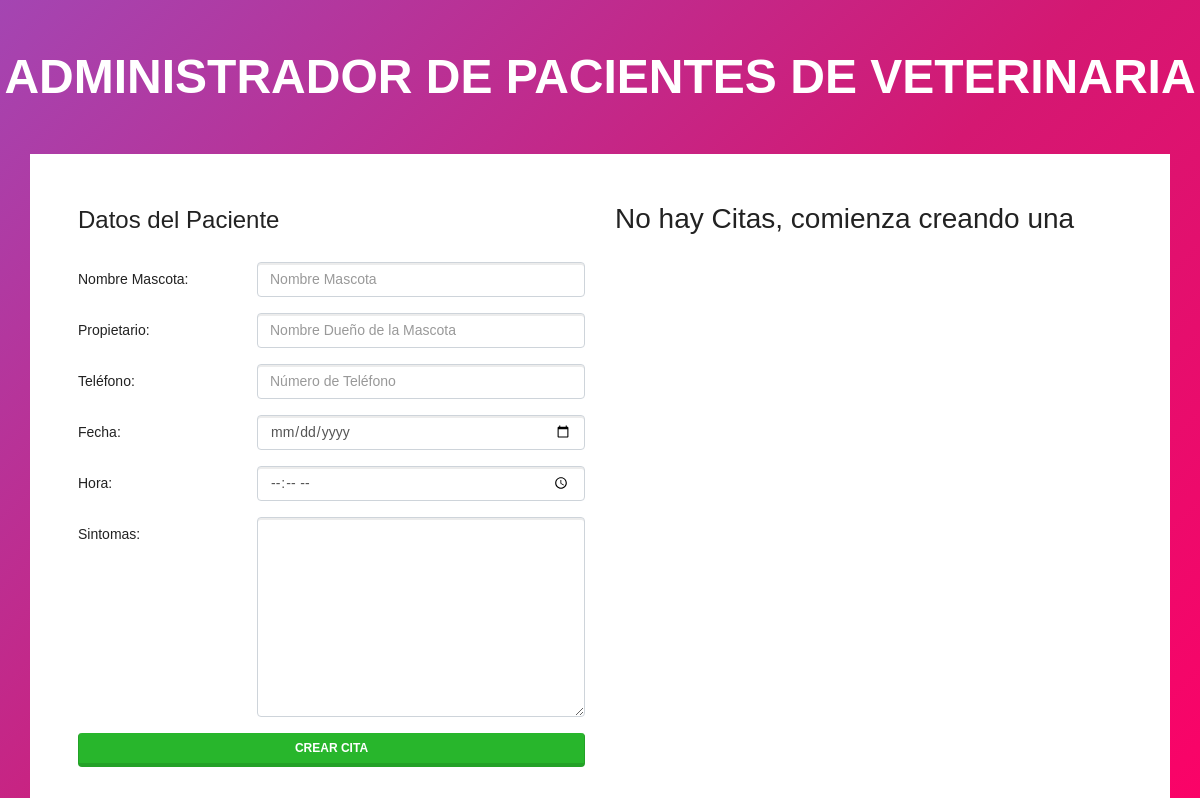
Test: Carga la página prinicpal › Carga la página principal
This screenshot has width=1200, height=798.
In the field with test id "mascota-input": (421, 280) [257, 262, 585, 297], type "Hook"
In the field with test id "propietario-input": (421, 331) [257, 313, 585, 348], type "Cesario"
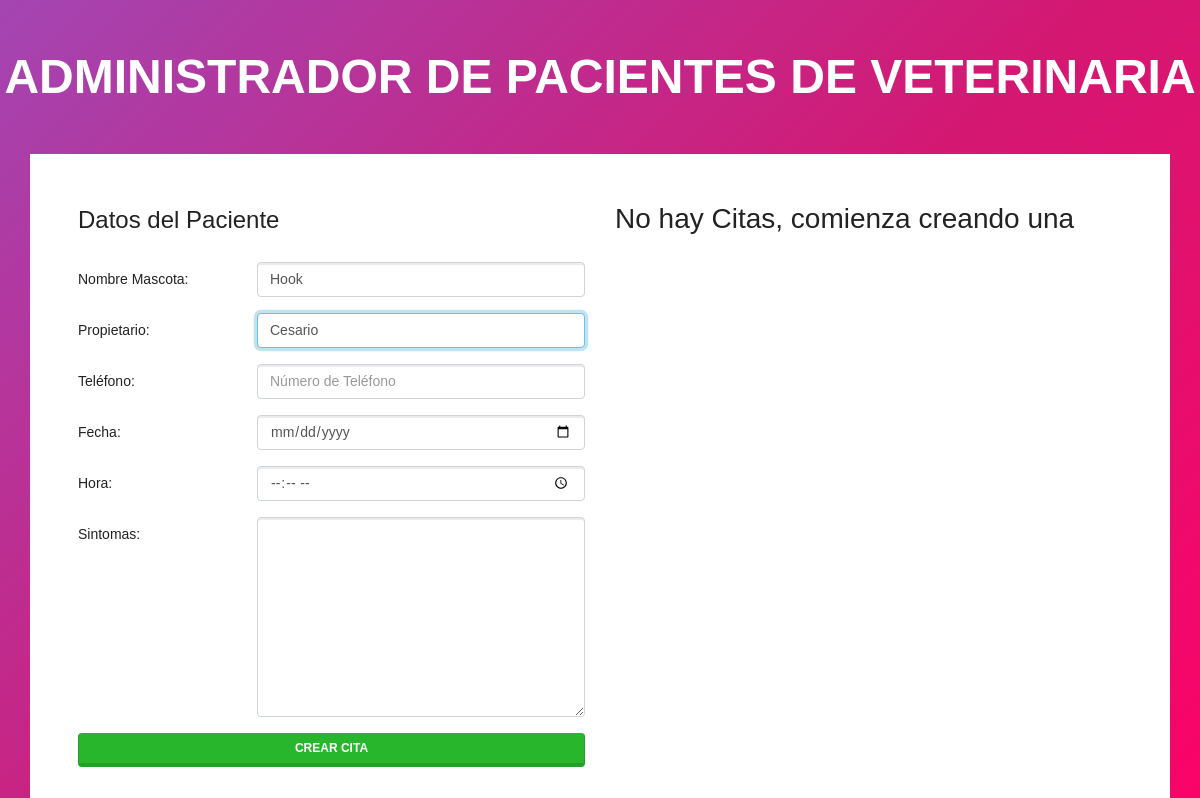
In the field with test id "telefono-input": (421, 382) [257, 364, 585, 399], type "8093465343"
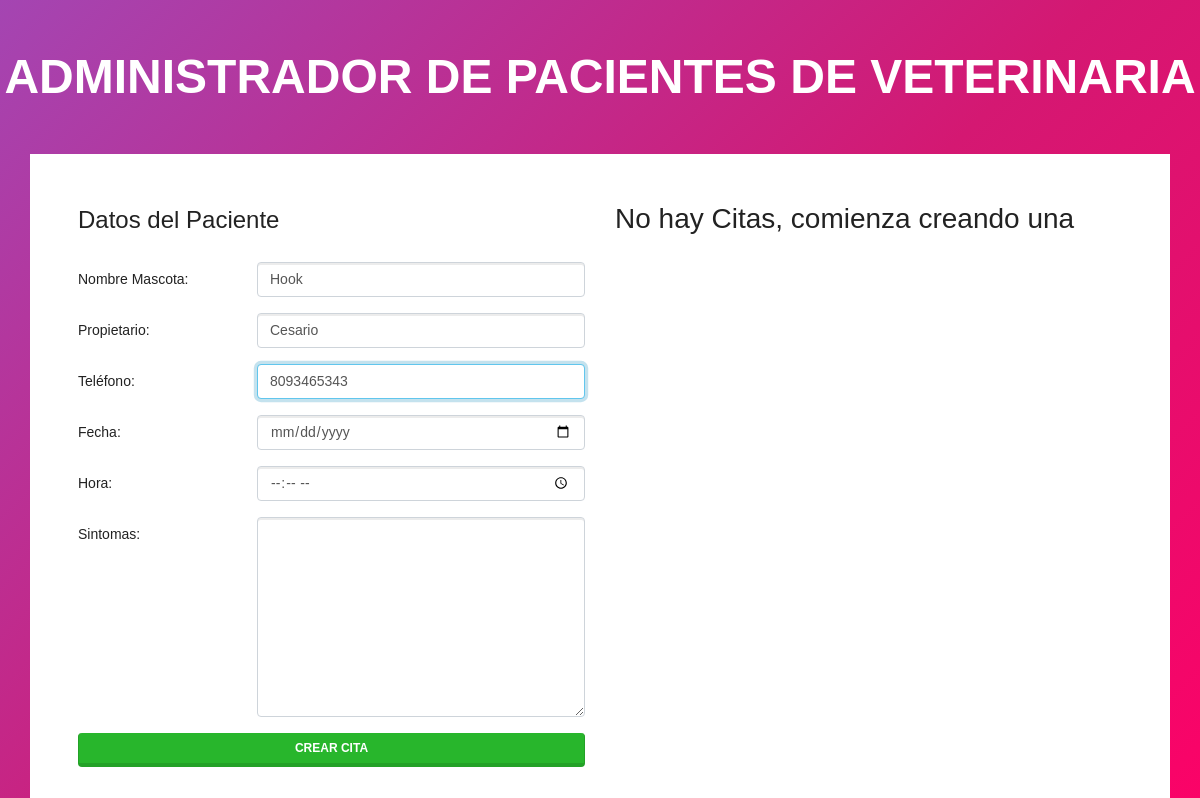
In the date field with test id "fecha-input": (421, 433) [257, 415, 585, 450], type "2021-03-29"
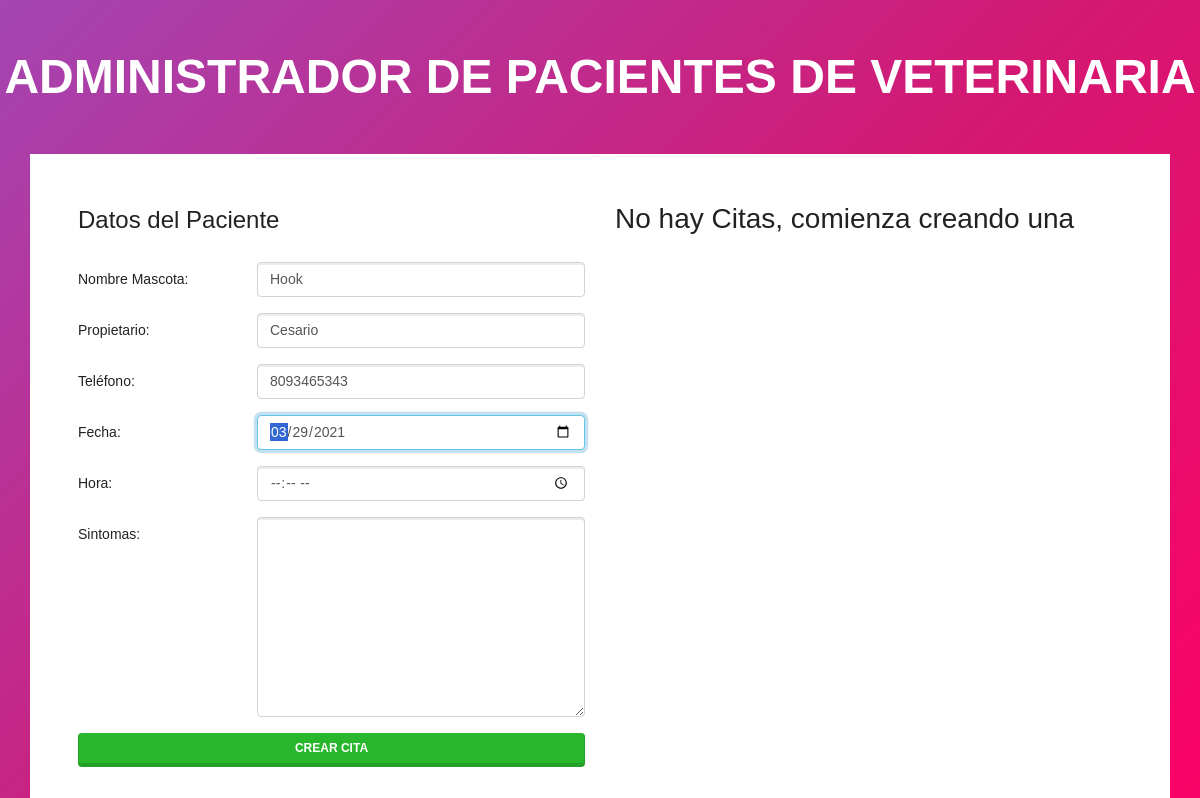
In the time field with test id "hora-input": (421, 484) [257, 466, 585, 501], type "16:29"
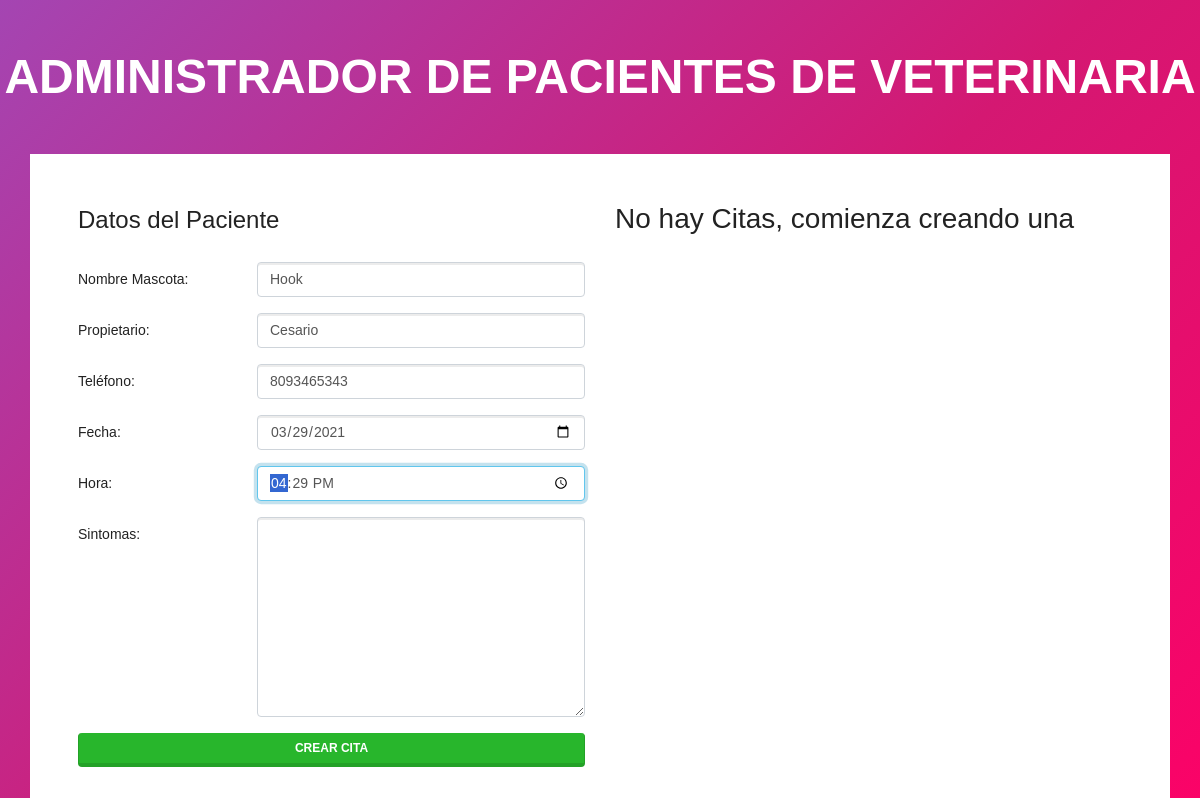
In the text box with test id "sintomas-textarea": (421, 617) [257, 517, 585, 717], type "Solo duerme!!"
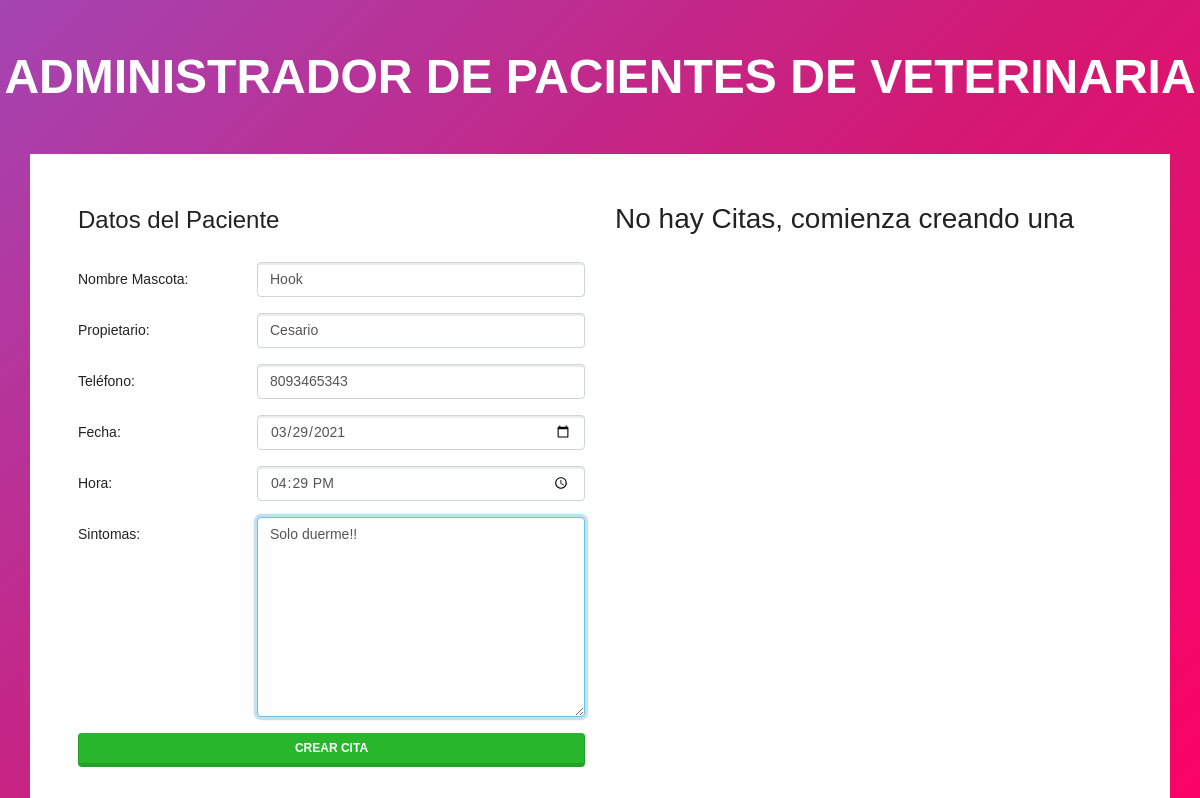
Click the button with test id "submit": (332, 750) [78, 733, 585, 767]
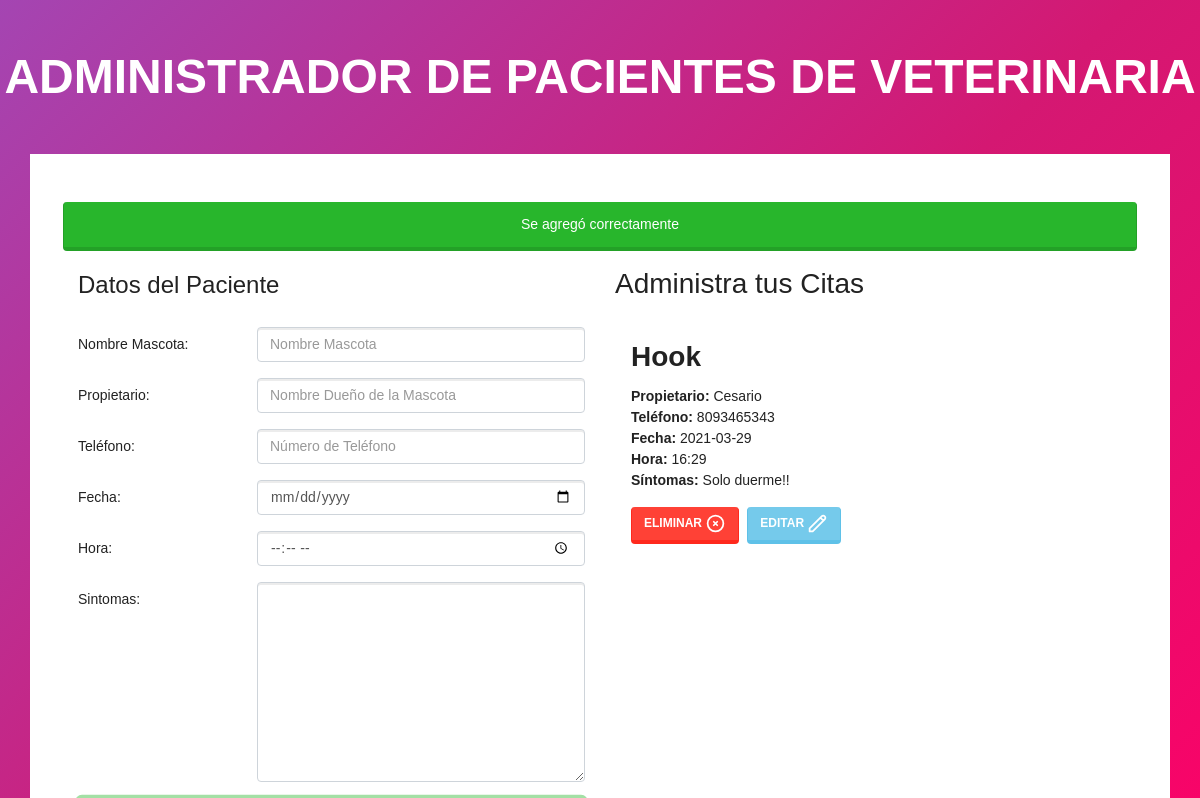
Result: the heading with test id "citas-heading" reads "Administra tus Citas" at [615, 268, 864, 299]
